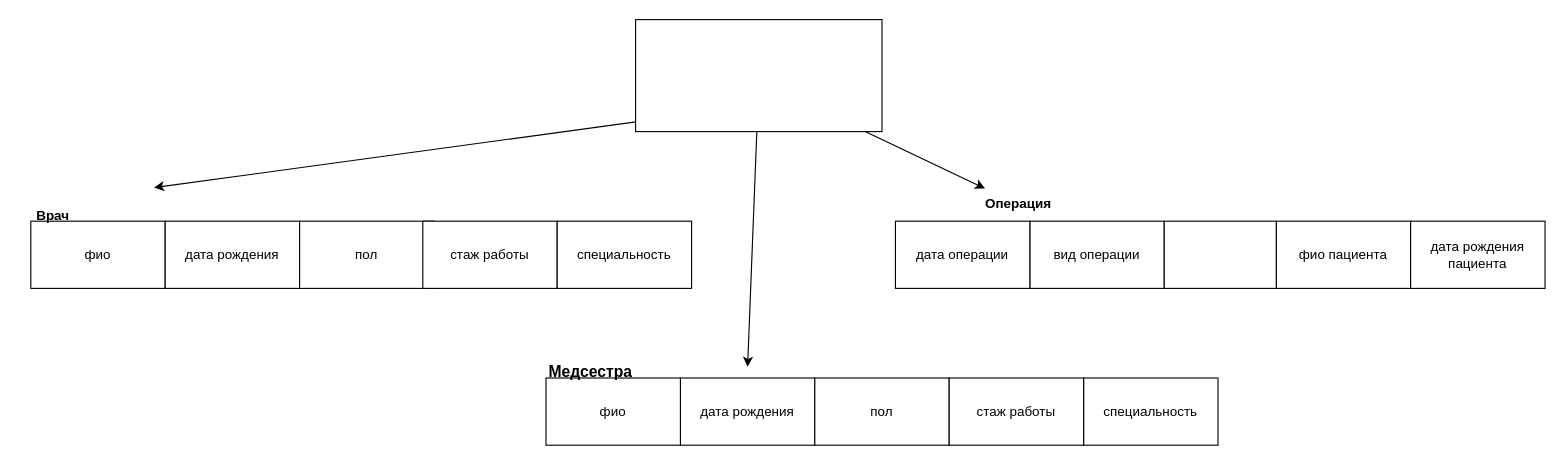
Some shapes in this 1565 by 465 pixel diagram are drawn without their labels. The shapes that lost their labels are listed below. From the top down, each one's box as (x1, y1, x2, y2) in pixels, then its label:
(634, 18, 882, 132): Стоматология
(1163, 220, 1276, 288): стоимость
